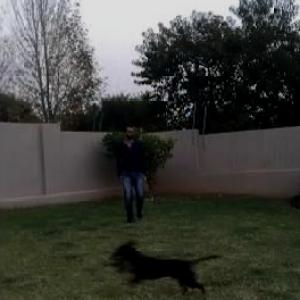follow: (117, 122, 147, 222)
